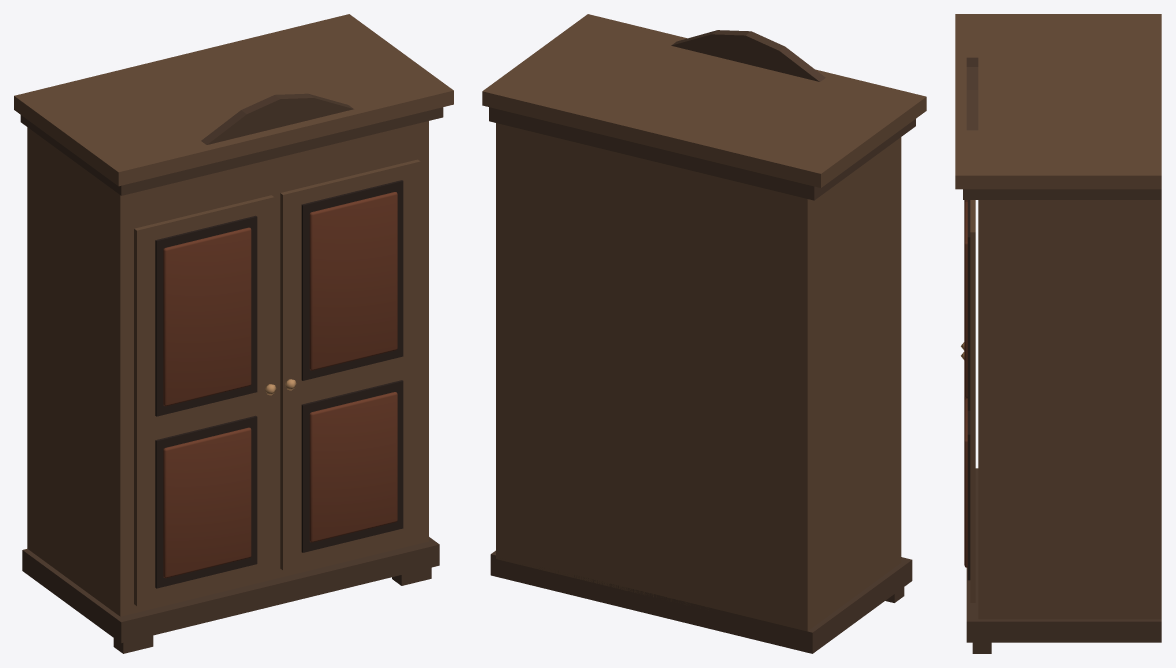
File: wardrobe.glb
3 views of the same model, side by side, from view 1: azimuth 30°, elevation 25°; view 2: azimuth 150°, elevation 25°; view 3: azimuth 270°, elevation 25° (orthographic). The views are drawn at different scales.
Parts seen in each view (by area): view 1: wardrobe; view 2: wardrobe; view 3: wardrobe.
Part boxes in pixels (x1,y1,x2,y2): wardrobe: [14, 14, 453, 653]; wardrobe: [482, 14, 926, 653]; wardrobe: [955, 14, 1161, 653].
Size of the model in its own units: 1 by 1.48 by 0.54.
